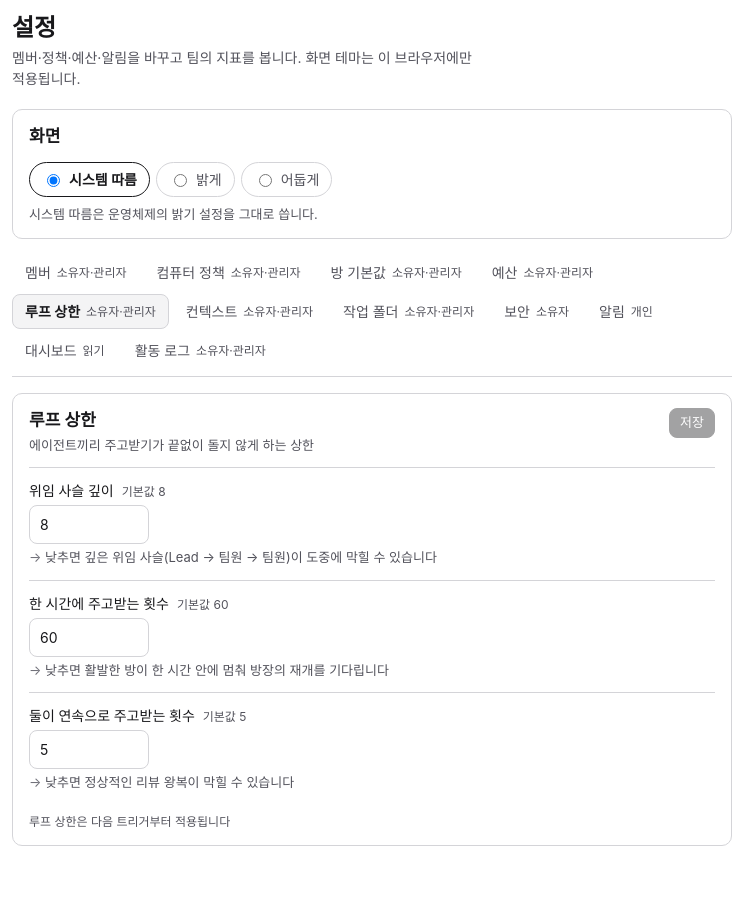
Test: S14 — 워크스페이스 탭 · 권한 · 저장 payload › 422 는 errors[] 를 그 칸 옆에 그린다(서버 문장 그대로)
Expected: the element with test id "row-chain-depth" is shown, top-left (29, 467), bottom-right (715, 580)
Step 1. Replace the text in the number field named "위임 사슬 깊이" with "0" → (89,525), box top-left (29, 505), bottom-right (149, 544)
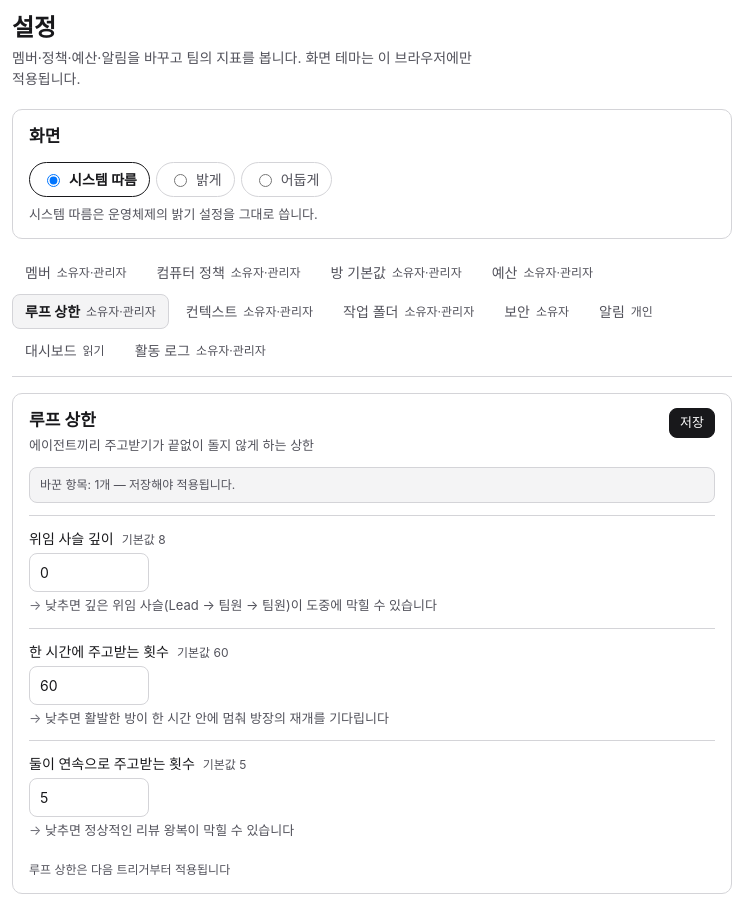
Step 2. Click the button with test id "settings-save" → (692,423), box top-left (669, 408), bottom-right (715, 438)
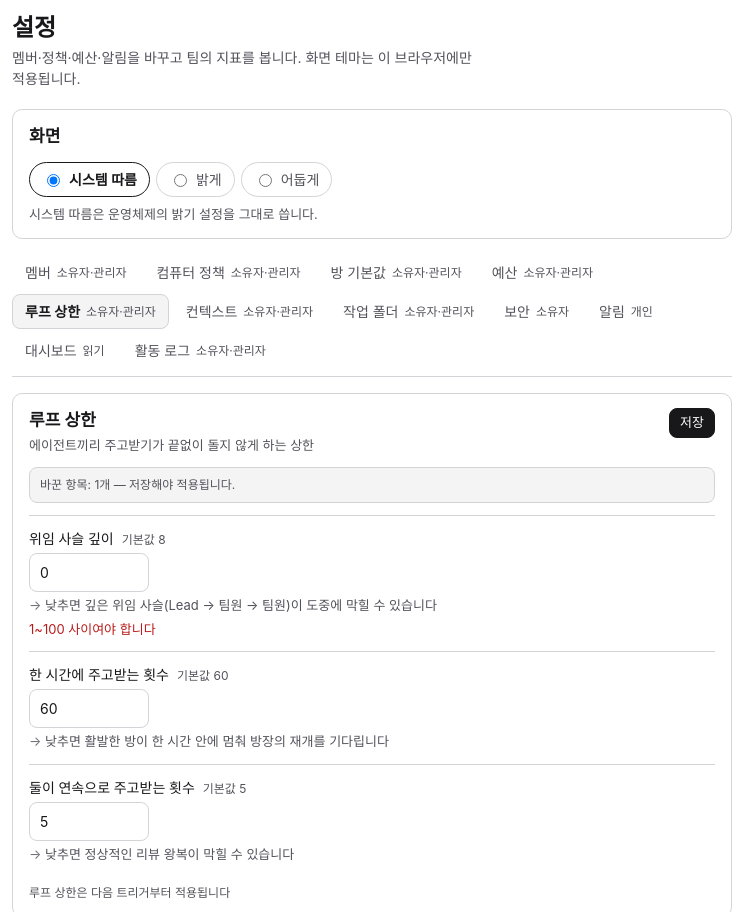
Expected: the message reads "1~100 사이여야 합니다", top-left (29, 621), bottom-right (156, 637)
